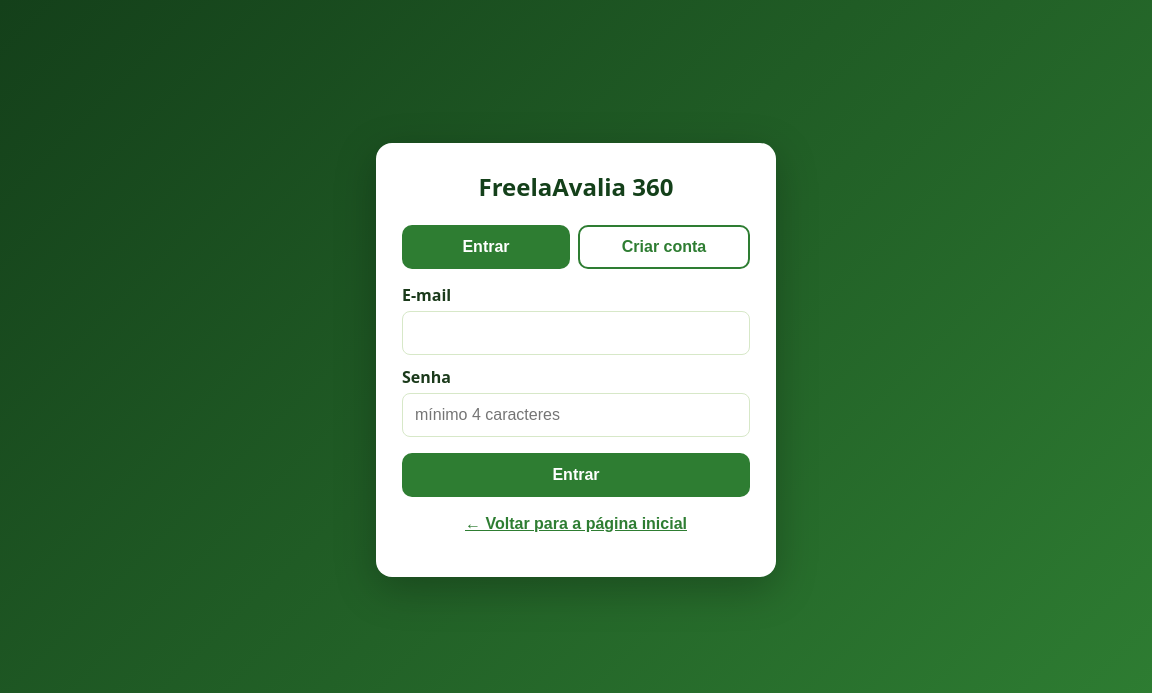
Test: @interface Auth › no modo login não pede nome; ao trocar para 'Criar conta' mostra nome e papel
Click the button with test id "tab-criar-conta" at coordinates (664, 247), box [578,225,750,269]
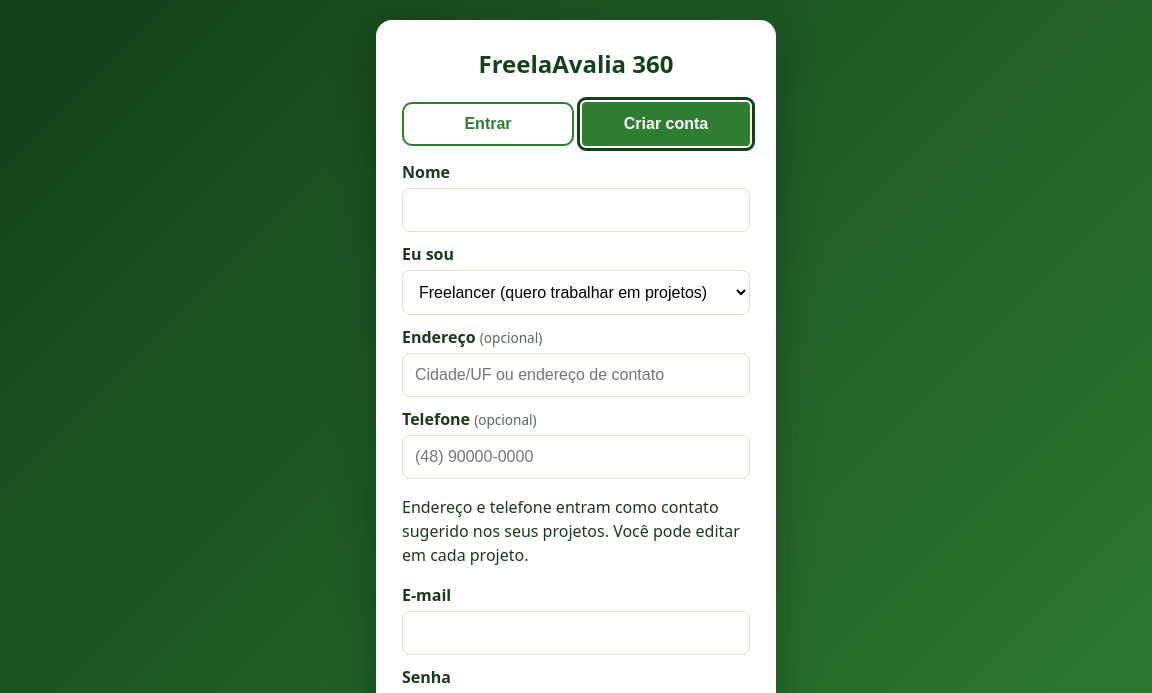
Check: the field with test id "input-nome" is shown, box [402,188,750,232]
Check: the dropdown with test id "input-papel" is shown, box [402,270,750,315]
volta para a aba Entrar → some o campo nome
Click the button with test id "tab-entrar" at coordinates (488, 124), box [402,102,574,146]
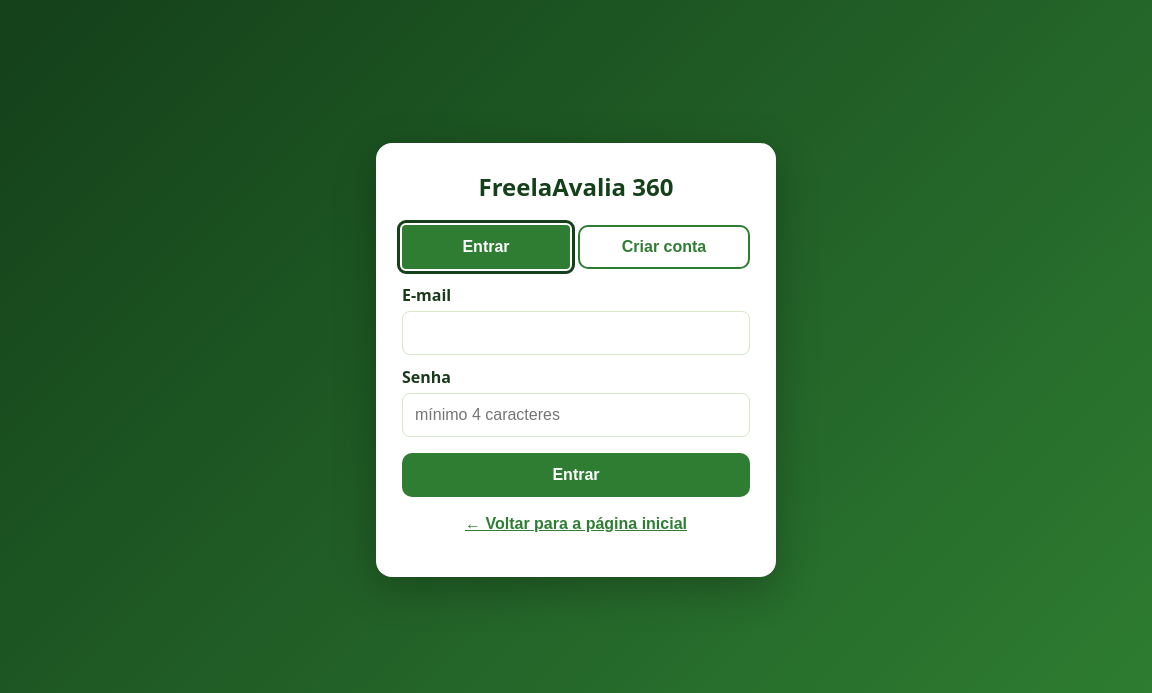
Check: the field with test id "input-nome" is gone
